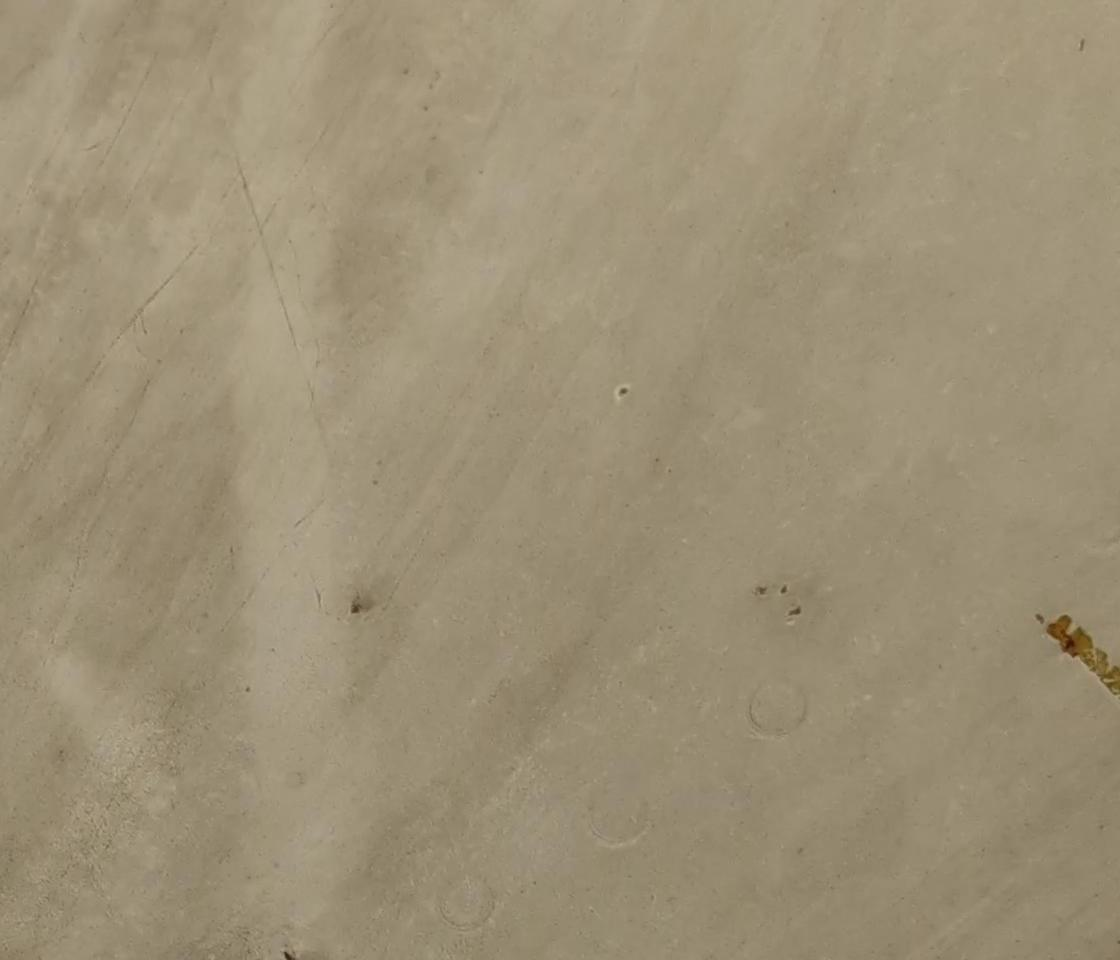rust: (1042, 611, 1099, 662)
